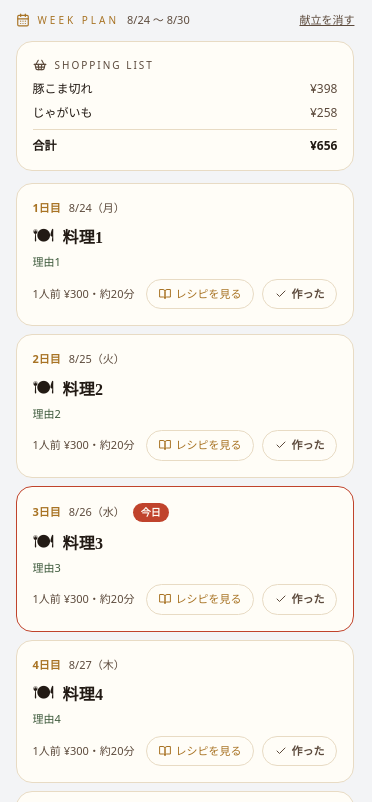
Test case: WeekPlanView — discarding the plan › asks before discarding
The width and height of the screenshot is (372, 802).
Click the button "献立を消す": click(327, 20) [300,12,354,28]
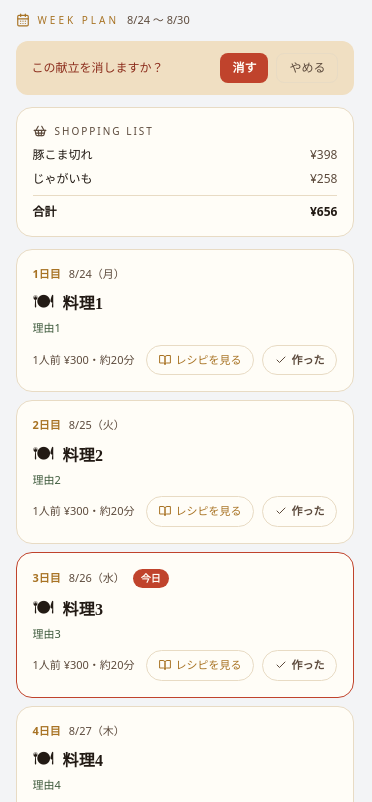
Expected: the text "この献立を消しますか？" is shown, [32,60,164,76]
